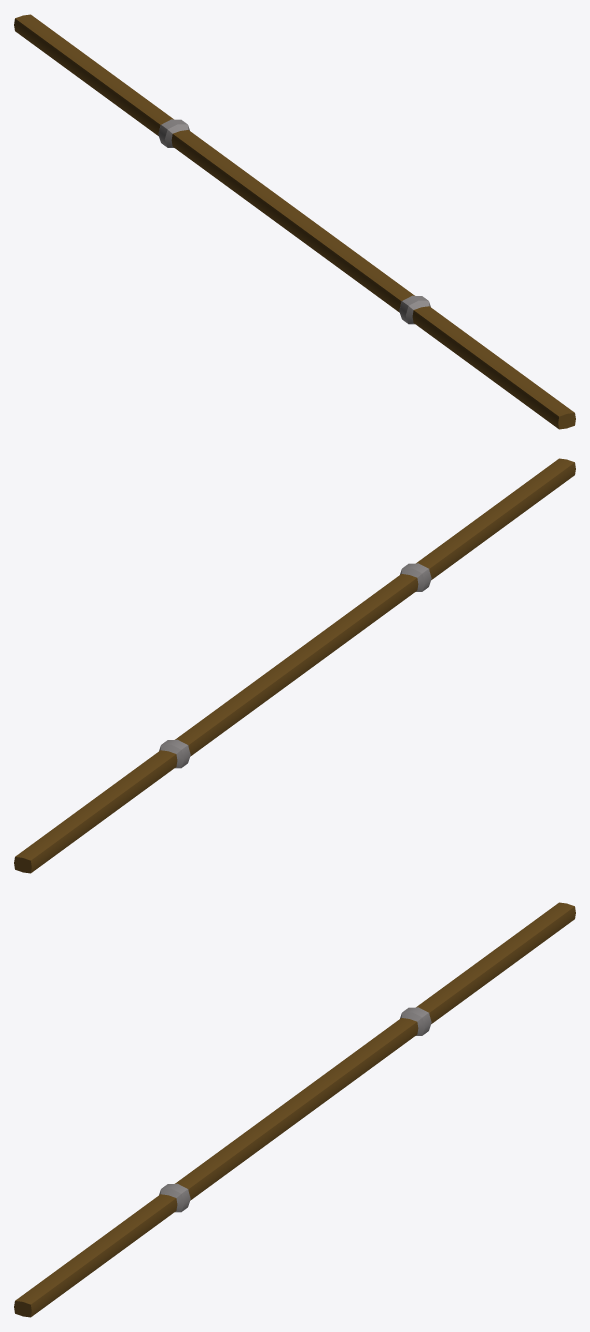
Rendered from mesh_stick.fbx.
3 renders of one model, top to bottom at view 1: azimuth 30°, elevation 25°; view 2: azimuth 150°, elevation 25°; view 3: azimuth 330°, elevation 25°, orthographic.
Visible parts, largest first — view 1: stick; view 2: stick; view 3: stick.
Boxes of the visible parts, left/top/right/bottom form: stick: left=14, top=14, right=575, bottom=429; stick: left=14, top=458, right=575, bottom=873; stick: left=14, top=902, right=575, bottom=1317.
Bounding box in the file's own units: 5.31 × 4.67 × 192.
1 material, 1 textured.
